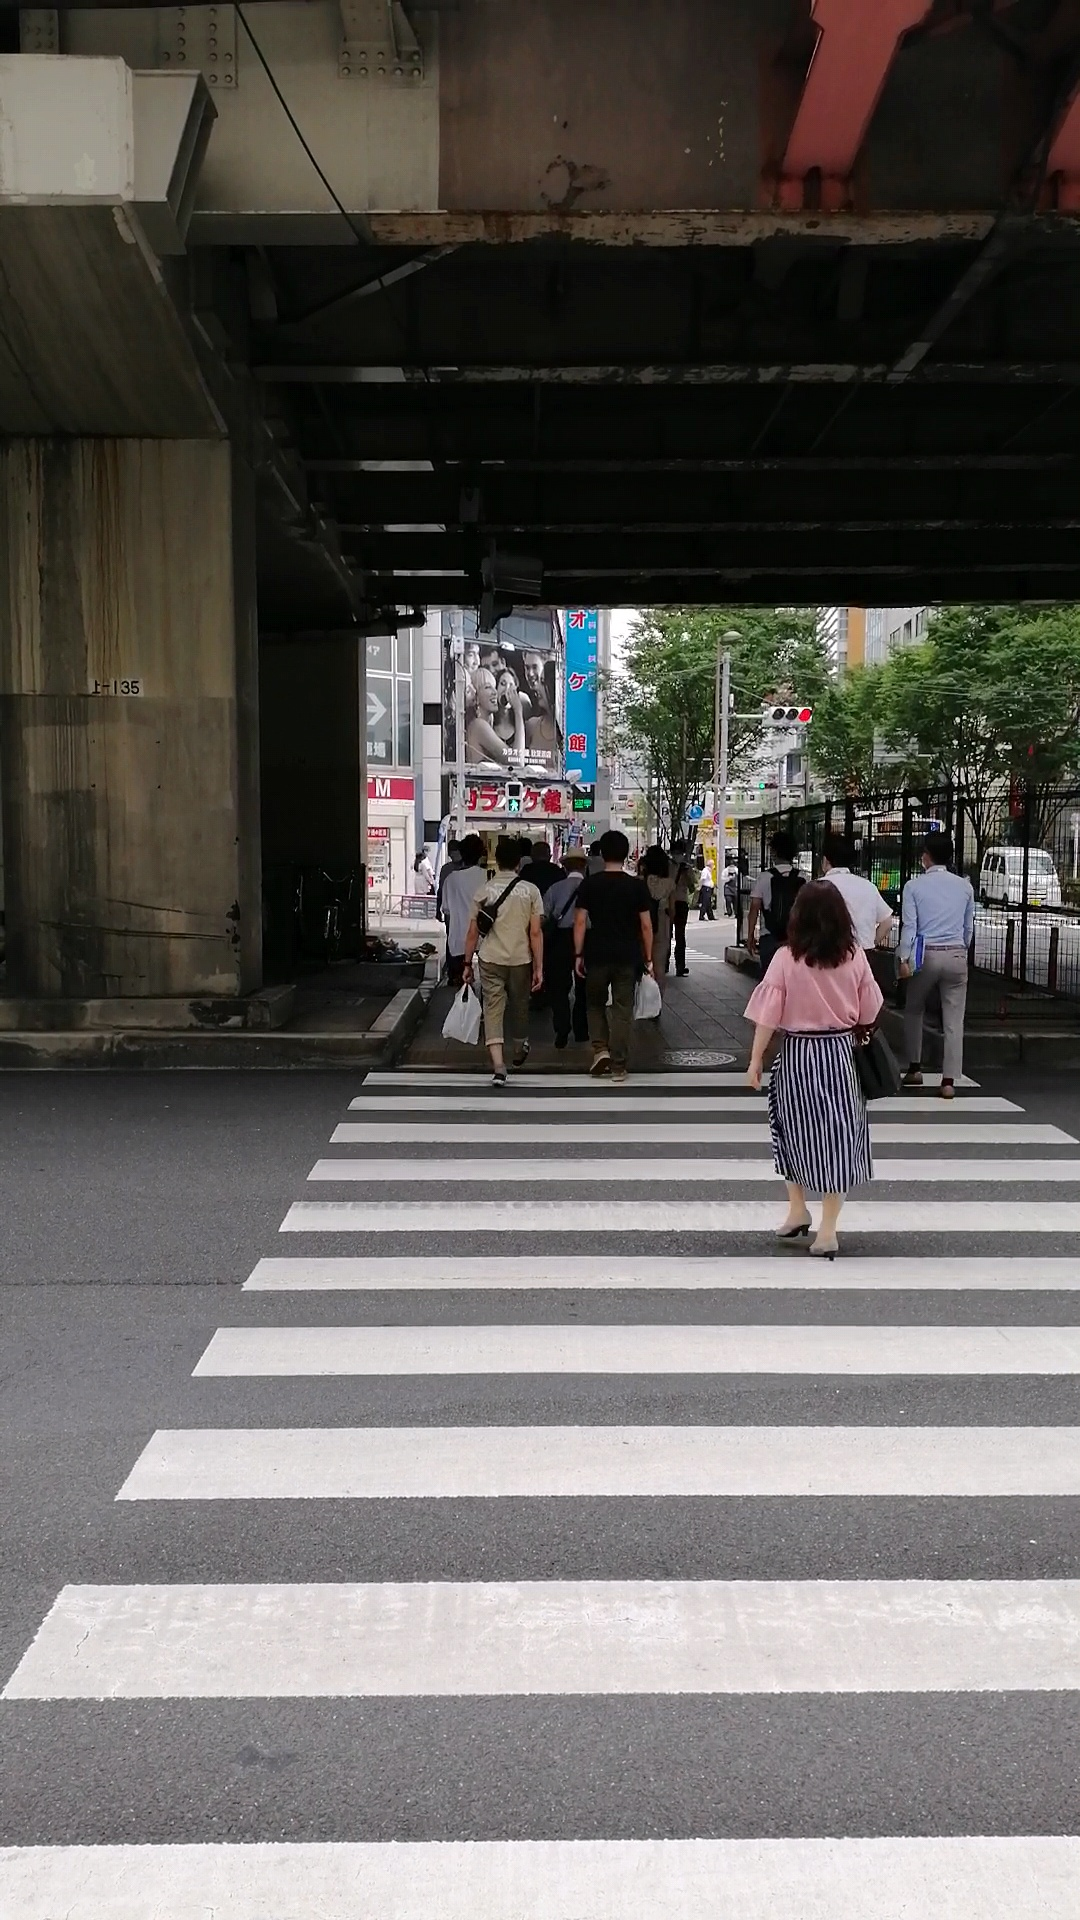green: (504, 781, 524, 814)
